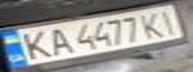4: (72, 20, 96, 52), (90, 18, 115, 48)
7: (121, 14, 145, 43), (106, 16, 127, 46)
A: (42, 25, 75, 56)
I: (154, 7, 184, 35)
K: (12, 28, 54, 61), (136, 10, 169, 39)
